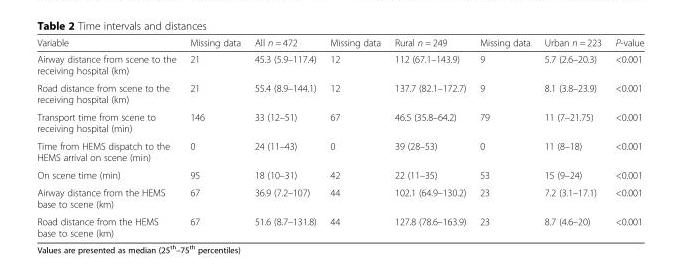table: (36, 36, 643, 238)
table column: (36, 36, 182, 238), (387, 36, 472, 238), (246, 36, 322, 238), (536, 36, 607, 238), (322, 36, 387, 238), (182, 36, 246, 238), (472, 36, 536, 238), (607, 36, 643, 238)
table column header: (36, 36, 643, 50)
table row: (36, 78, 643, 107), (36, 107, 643, 136), (36, 136, 643, 165), (36, 183, 643, 212), (36, 50, 643, 78), (36, 212, 643, 238), (36, 165, 643, 183), (36, 36, 643, 50)
